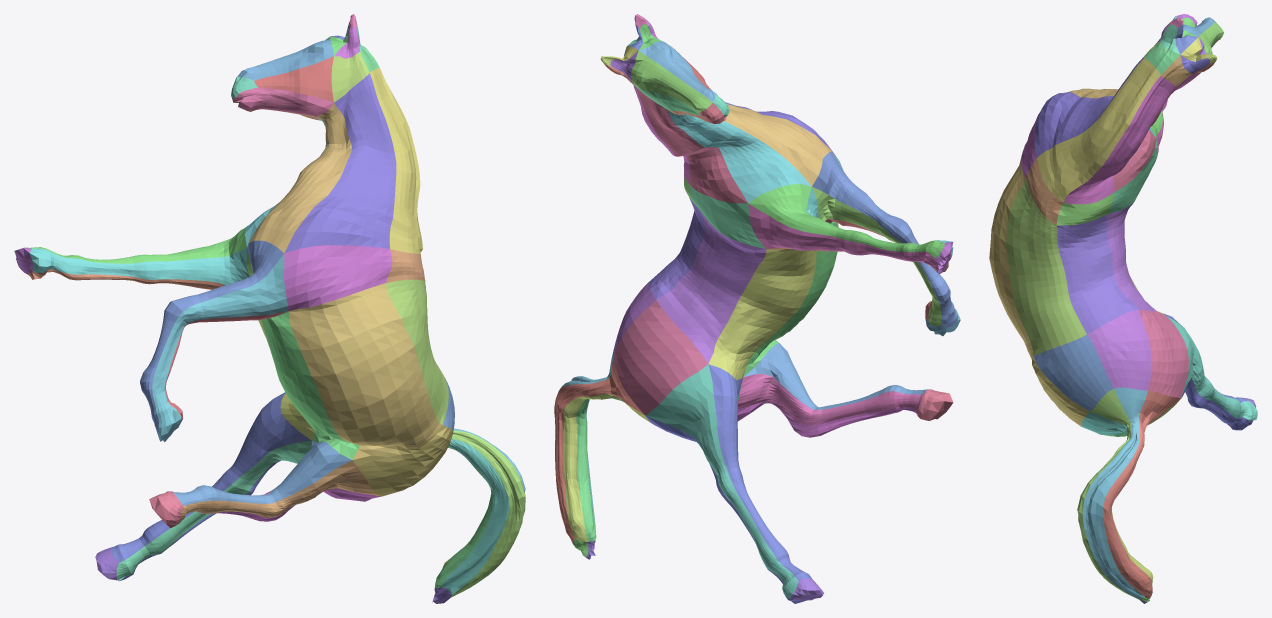
Rendered from horse07_output.obj.
3 views of the same model, side by side, from view 1: azimuth 30°, elevation 25°; view 2: azimuth 150°, elevation 25°; view 3: azimuth 270°, elevation 25° (orthographic). The views are drawn at different scales.
Bounding box in the file's own units: 0.8612 × 1.07 × 0.4698.
